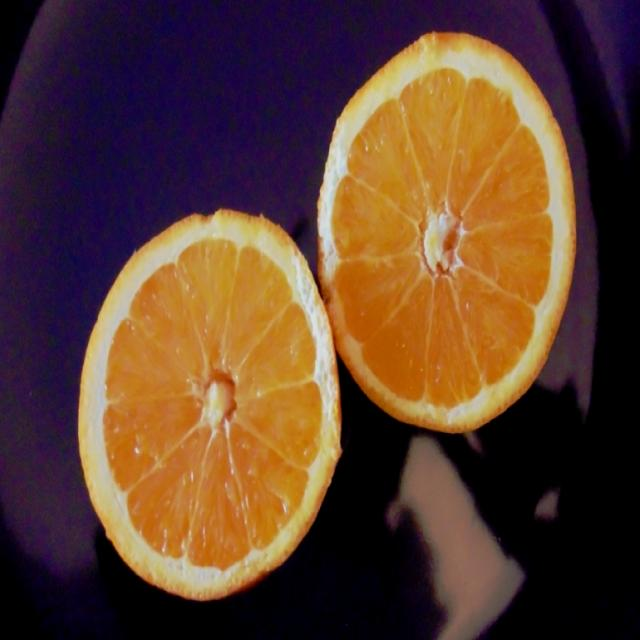orange: (310, 25, 586, 454), (68, 192, 346, 606)
